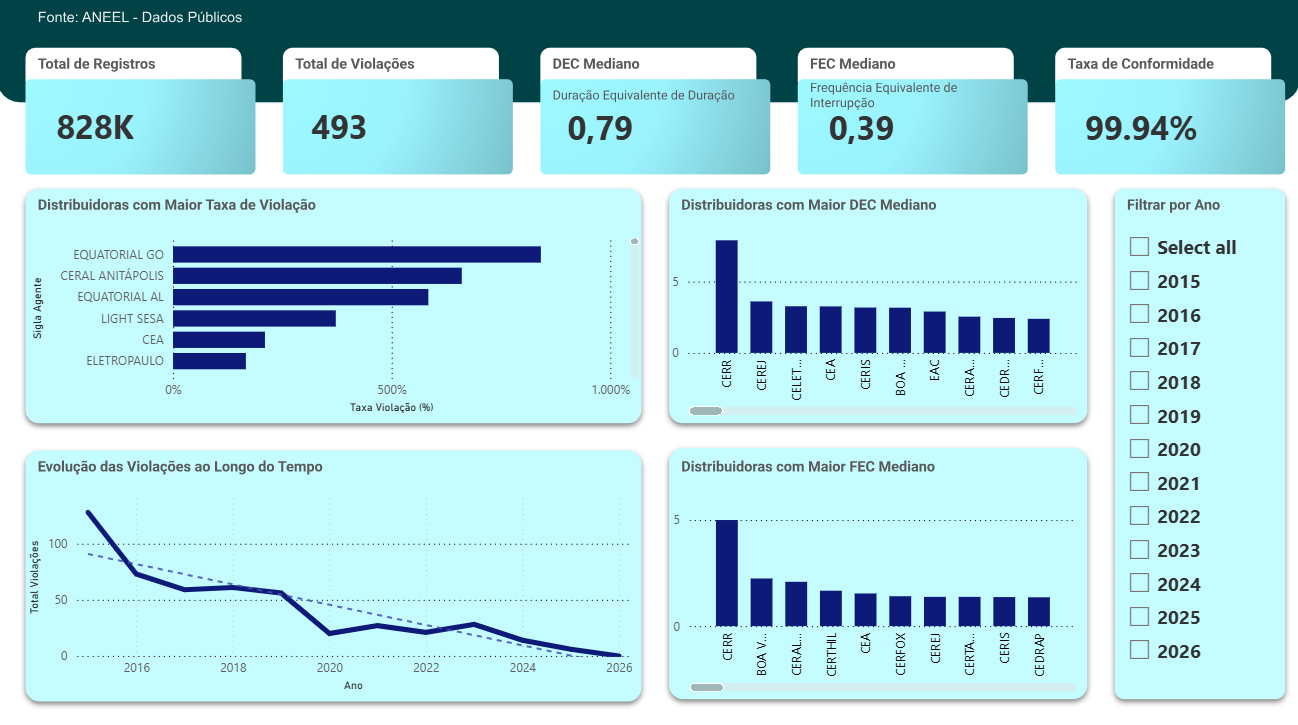

The page's visual inventory and layout, read from the dashboard file:
{"tool":"powerbi","page":{"name":"Visão Geral","canvas":[1280,720],"ordinal":1},"visuals":[{"type":"cardVisual","fields":{"Data":["indicadores_consolidados_aneel.total_violacoes_true"]},"box":[278.3,80,228.3,93.3],"z":0},{"type":"cardVisual","fields":{"Data":["indicadores_consolidados_aneel.total_violacoes_false"]},"box":[28.3,80,223.3,93.3],"z":1000},{"type":"cardVisual","fields":{"Data":["indicadores_consolidados_aneel.DEC_Medio"]},"box":[529.5,80.4,230,93.6],"z":2000},{"type":"cardVisual","fields":{"Data":["indicadores_consolidados_aneel.FEC_Medio"]},"box":[786.8,80.4,226.4,93.6],"z":3000},{"type":"areaChart","fields":{"Category":["indicadores_consolidados_aneel.AnoIndice"],"Y":["indicadores_consolidados_aneel.total_violacoes_true"]},"box":[26,480,602,208],"z":4000},{"type":"barChart","fields":{"Category":["indicadores_consolidados_aneel.SigAgente"],"Y":["indicadores_consolidados_aneel.taxa_violacao_agente"]},"box":[28,224,606,190],"z":5000},{"type":"slicer","fields":{"Values":["indicadores_consolidados_aneel.AnoIndice"]},"box":[1098,224,166,466],"z":6000},{"type":"clusteredColumnChart","fields":{"Y":["indicadores_consolidados_aneel.DEC_Medio"],"Category":["indicadores_consolidados_aneel.SigAgente"]},"box":[656,224,408,192],"z":7000},{"type":"clusteredColumnChart","fields":{"Y":["indicadores_consolidados_aneel.FEC_Medio"],"Category":["indicadores_consolidados_aneel.SigAgente"]},"box":[658,480,406,208],"z":8000},{"type":"cardVisual","fields":{"Data":["indicadores_consolidados_aneel.taxa_de_conformidade_pct"]},"box":[1038.6,80.4,226.4,93.6],"z":9000}]}

Visuals, with their boxes in screenshot pixels (x1, y1, x2, y2), scaled from the page's 1280x720 canvas onto the 1298x725 screenshot:
cardVisual - indicadores_consolidados_aneel.total_violacoes_true: (282,81,514,175)
cardVisual - indicadores_consolidados_aneel.total_violacoes_false: (29,81,255,175)
cardVisual - indicadores_consolidados_aneel.DEC_Medio: (537,81,770,175)
cardVisual - indicadores_consolidados_aneel.FEC_Medio: (798,81,1027,175)
areaChart - indicadores_consolidados_aneel.AnoIndice x indicadores_consolidados_aneel.total_violacoes_true: (26,483,637,693)
barChart - indicadores_consolidados_aneel.SigAgente x indicadores_consolidados_aneel.taxa_violacao_agente: (28,226,643,417)
slicer - indicadores_consolidados_aneel.AnoIndice: (1113,226,1282,695)
clusteredColumnChart - indicadores_consolidados_aneel.DEC_Medio x indicadores_consolidados_aneel.SigAgente: (665,226,1079,419)
clusteredColumnChart - indicadores_consolidados_aneel.FEC_Medio x indicadores_consolidados_aneel.SigAgente: (667,483,1079,693)
cardVisual - indicadores_consolidados_aneel.taxa_de_conformidade_pct: (1053,81,1283,175)
